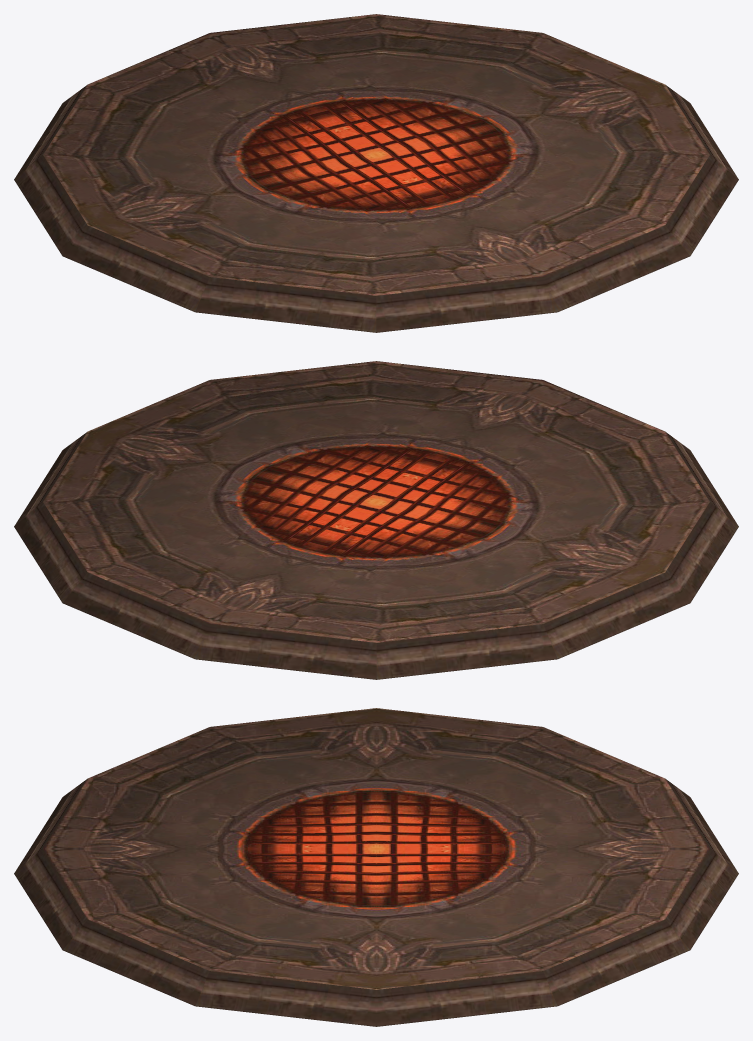
File: BossPlan1.fbx
The picture shows the model from 3 angles, top to bottom: view 1: azimuth 30°, elevation 25°; view 2: azimuth 150°, elevation 25°; view 3: azimuth 270°, elevation 25°; orthographic projection.
Parts seen in each view (by area): view 1: Bossplan2; view 2: Bossplan2; view 3: Bossplan2.
Boxes of the visible parts, box(x1,y1,x2,y2) form: Bossplan2: box(14, 14, 738, 332); Bossplan2: box(14, 361, 738, 679); Bossplan2: box(14, 708, 738, 1026).
Size of the model in its own units: 593 by 22.32 by 593.
